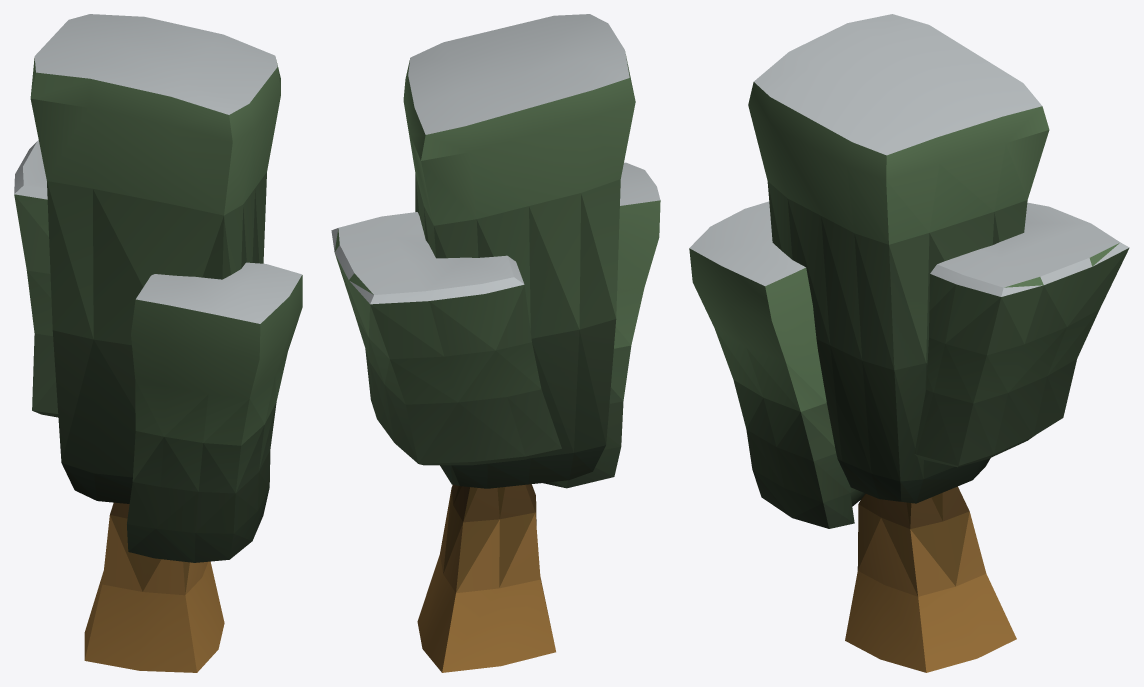
The model's file is angular_tree_block__winter.glb.
3 views of the same model, side by side, from view 1: azimuth 30°, elevation 25°; view 2: azimuth 150°, elevation 25°; view 3: azimuth 270°, elevation 25° (orthographic). The views are drawn at different scales.
Bounding box in the file's own units: 2.14 × 4.8 × 3.36.
